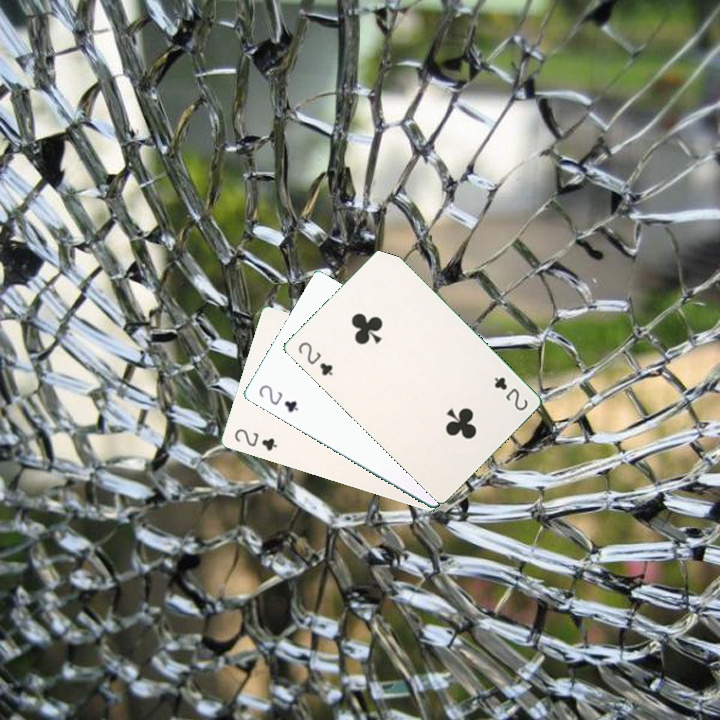2c: (294, 337, 335, 378), (255, 380, 301, 416), (490, 373, 530, 413), (230, 424, 280, 453)
